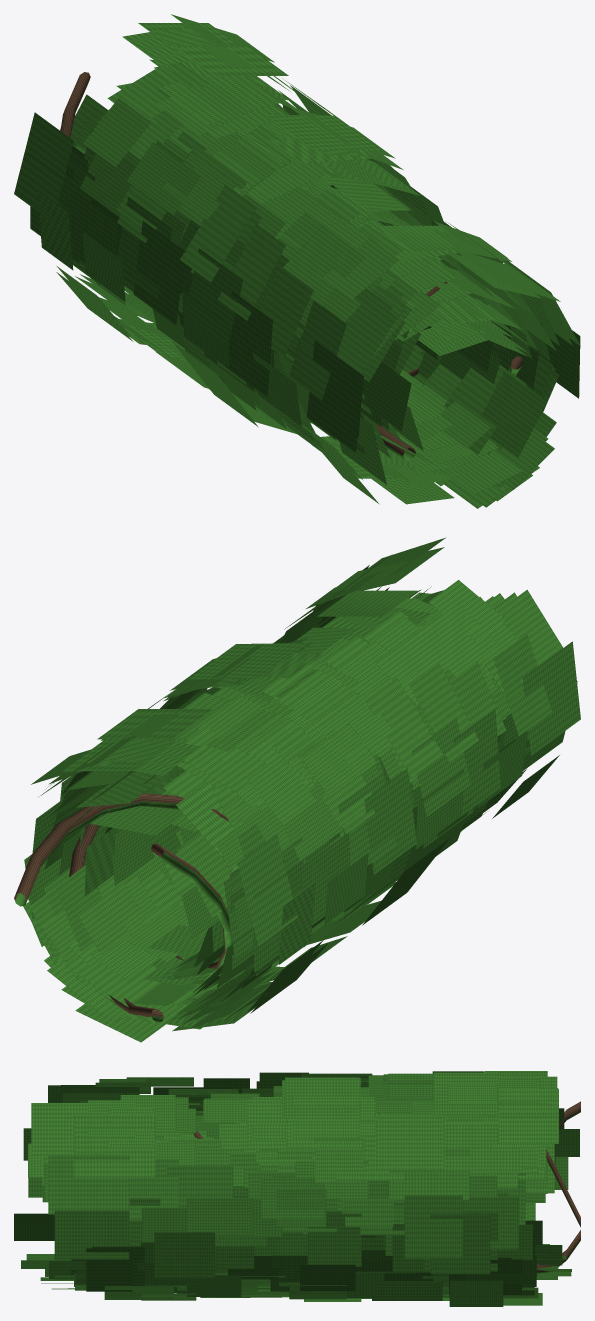
Rendered from veg_vine_ivy_01.obj.
The picture shows the model from 3 angles, top to bottom: view 1: azimuth 30°, elevation 25°; view 2: azimuth 150°, elevation 25°; view 3: azimuth 270°, elevation 25°; orthographic projection. The views are drawn at different scales.
Parts seen in each view (by area): view 1: veg_vine_ivy_01; view 2: veg_vine_ivy_01; view 3: veg_vine_ivy_01.
Part boxes in pixels (x1,y1,x2,y2): veg_vine_ivy_01: [14, 14, 580, 508]; veg_vine_ivy_01: [14, 537, 580, 1042]; veg_vine_ivy_01: [14, 1071, 580, 1306].
Bounding box in the file's own units: 0.7555 × 0.7768 × 1.8.
Materials: 1 (1 with a texture image).
